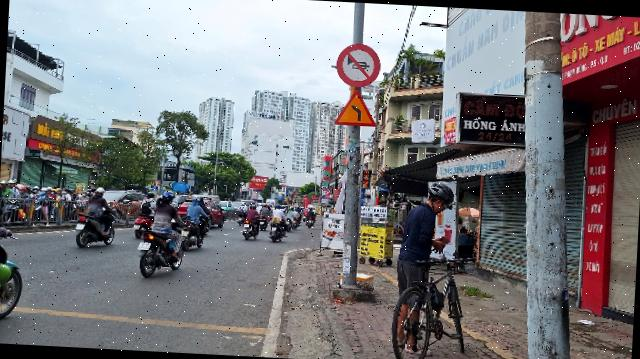cam-bop-coi: (336, 41, 380, 88)
cho-ngoat-nguy-hiem-ben-trai: (333, 88, 377, 126)
